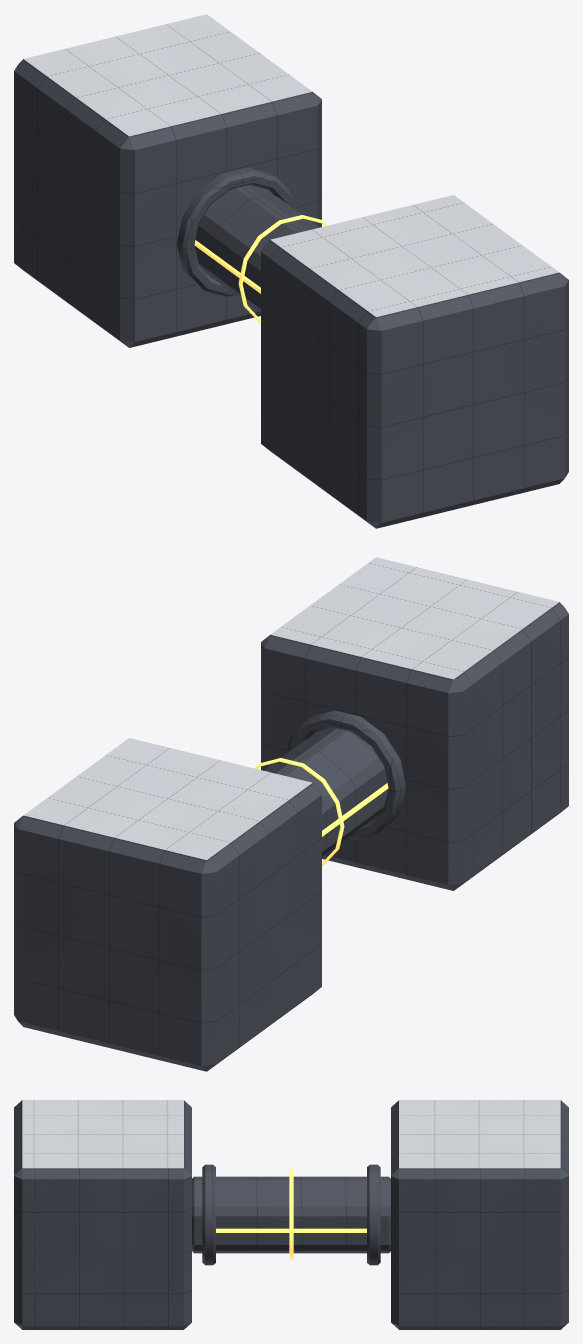
File: R4C_STRUT_STANDARD_LOD1.glb
3 renders of one model, top to bottom at view 1: azimuth 30°, elevation 25°; view 2: azimuth 150°, elevation 25°; view 3: azimuth 270°, elevation 25°, orthographic. The views are drawn at different scales.
Parts seen in each view (by area): view 1: R4C_STRUT_STANDARD_LOD1; view 2: R4C_STRUT_STANDARD_LOD1; view 3: R4C_STRUT_STANDARD_LOD1.
Part boxes in pixels (left/top/right/bottom): R4C_STRUT_STANDARD_LOD1: left=14, top=14, right=568, bottom=528; R4C_STRUT_STANDARD_LOD1: left=14, top=557, right=568, bottom=1071; R4C_STRUT_STANDARD_LOD1: left=14, top=1100, right=568, bottom=1329.
Size of the model in its own units: 0.52 by 0.52 by 1.62.
3 materials, 2 textured.
